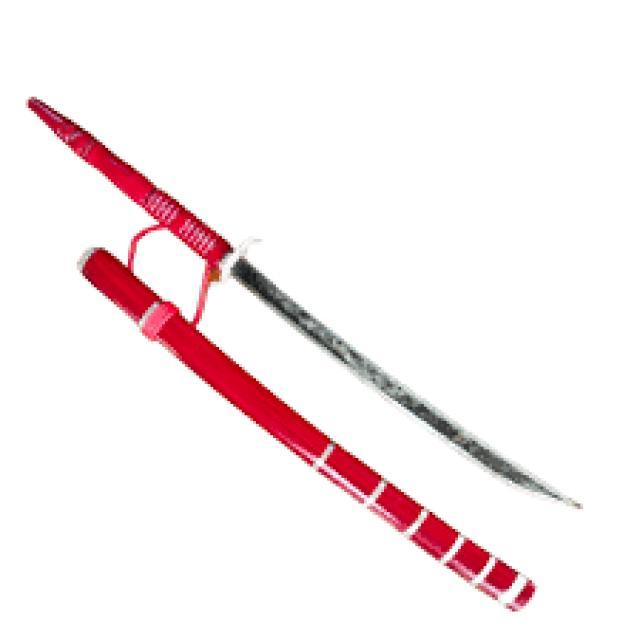long sword: (24, 92, 584, 508)
